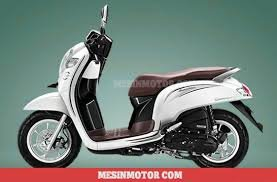motor: (15, 2, 261, 167)
